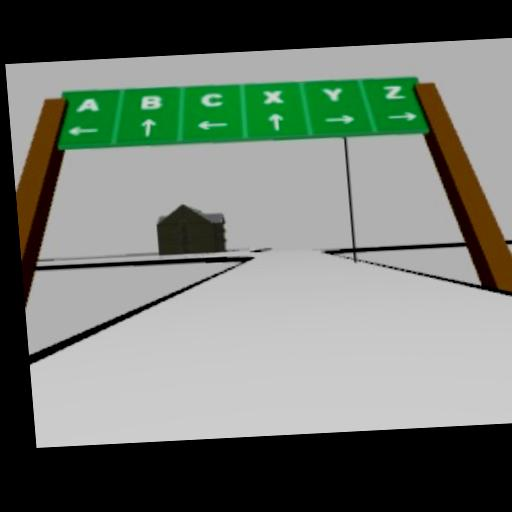A: (76, 95, 100, 111)
B: (138, 94, 162, 110)
C: (199, 90, 225, 107)
Left: (66, 124, 98, 137), (194, 119, 228, 130)
Right: (324, 113, 356, 125), (387, 110, 417, 122)
Straight: (266, 112, 284, 131), (140, 117, 158, 136)
X: (261, 87, 283, 103)
Y: (320, 86, 344, 102)
Z: (381, 83, 405, 99)
